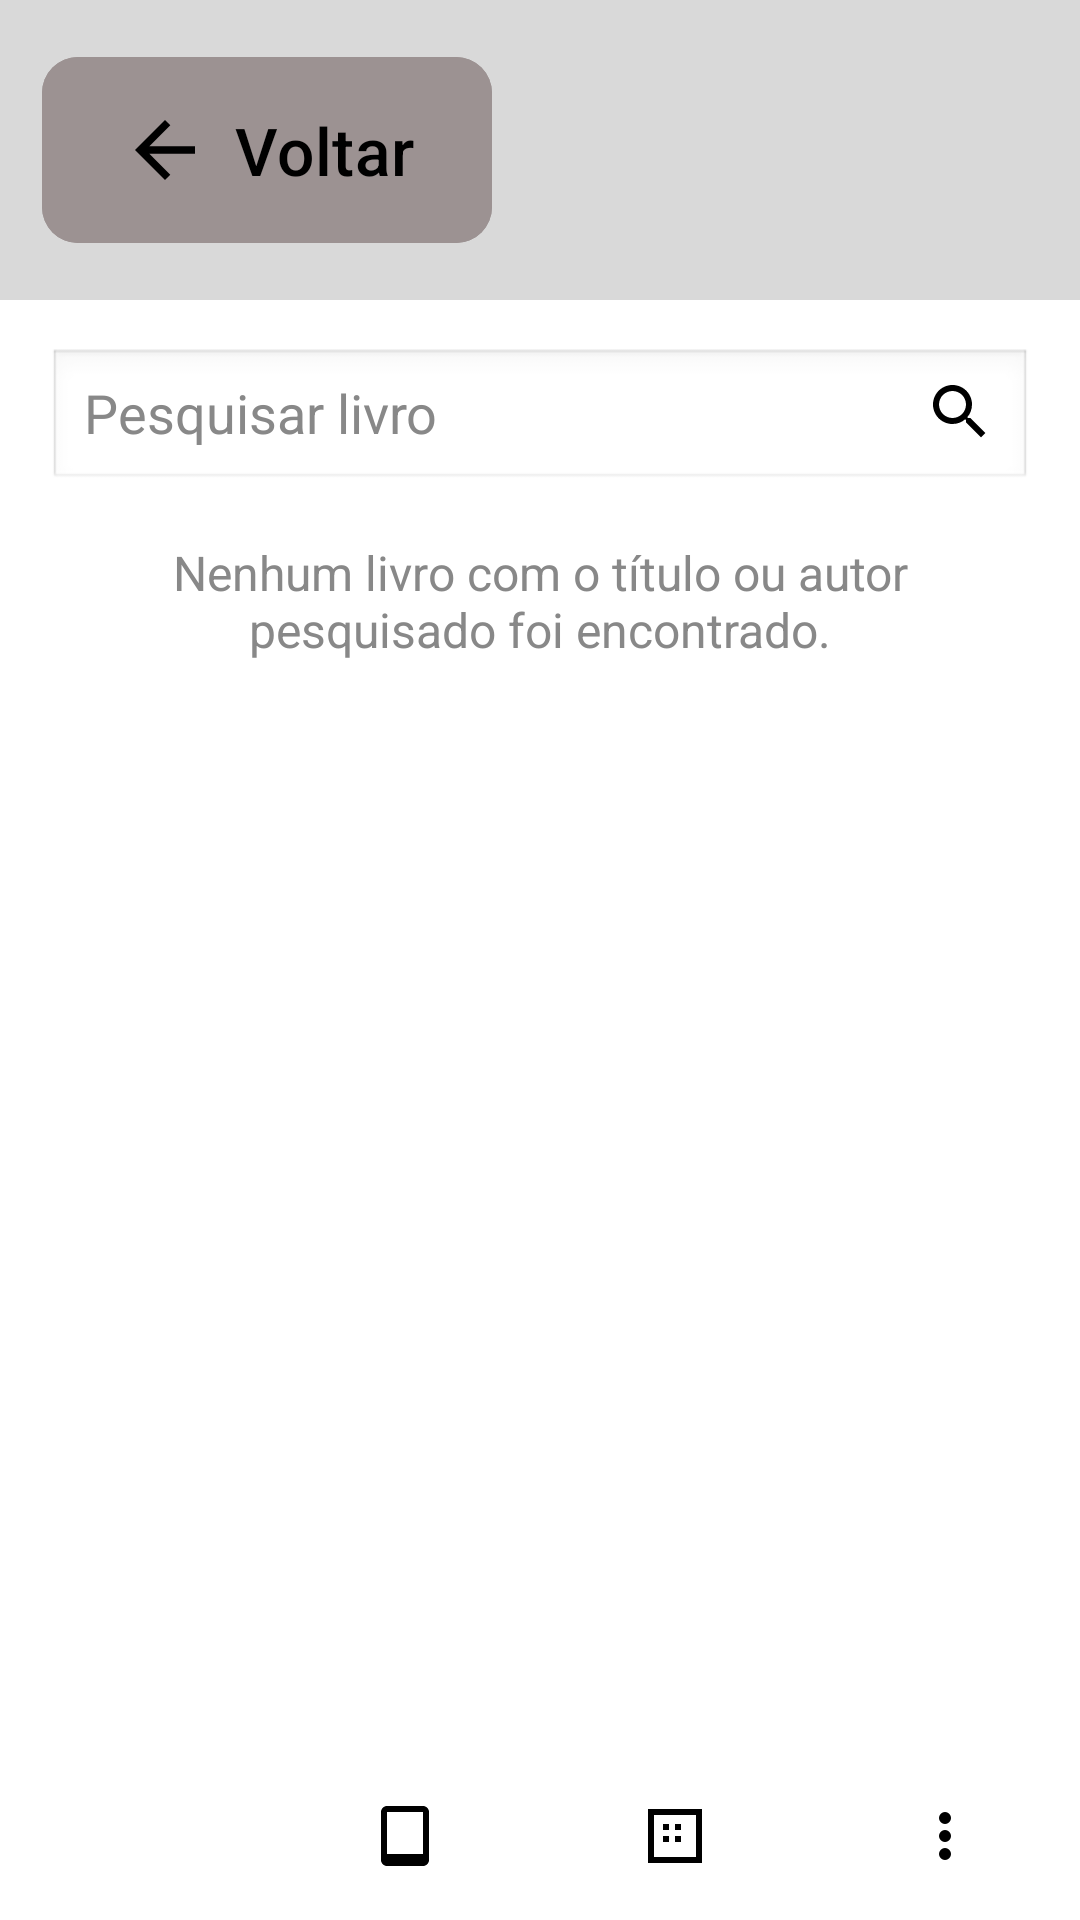

Icons on this 1080x1920 Android screen, each with its box as (x1, y1, x2, y2):
Mais opções: (939, 1812, 951, 1860)
search: (933, 385, 985, 437)
